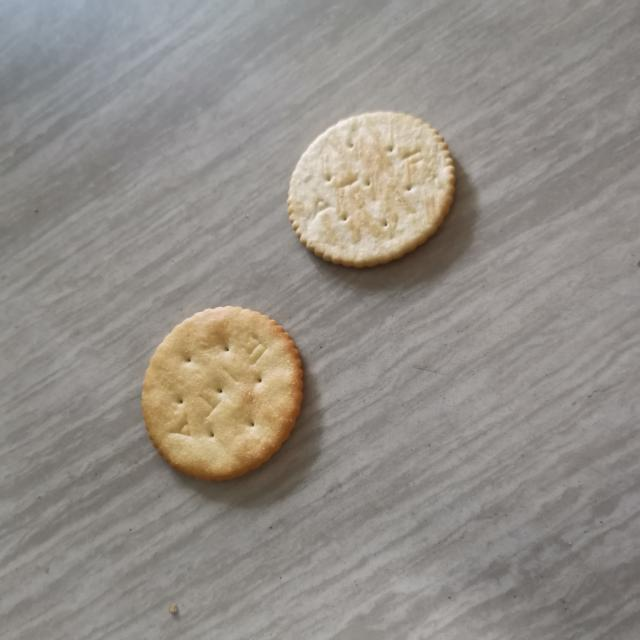Intact: (130, 297, 314, 491), (277, 97, 466, 279)
